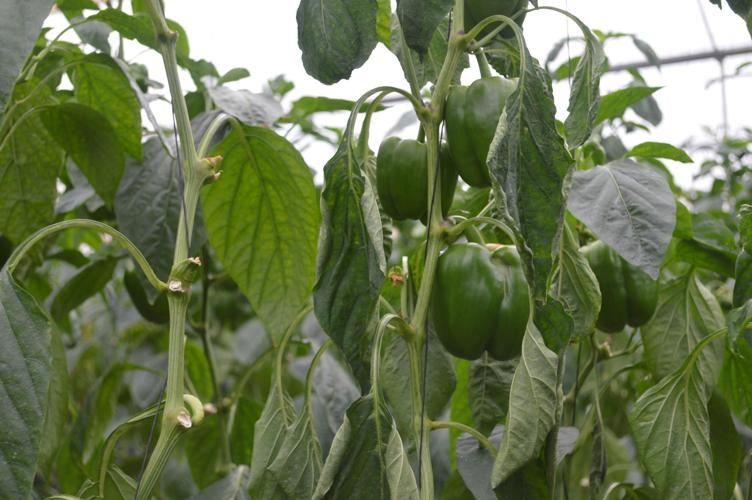BellPepper: (409, 230, 539, 367), (433, 71, 535, 194), (362, 130, 463, 228), (578, 234, 664, 331)
